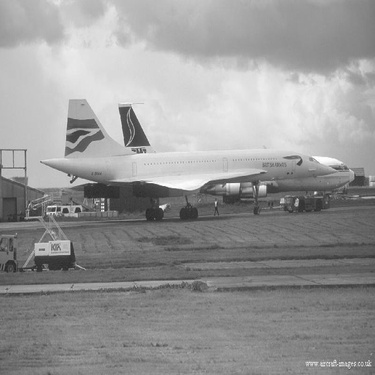airplane: (42, 80, 361, 225)
